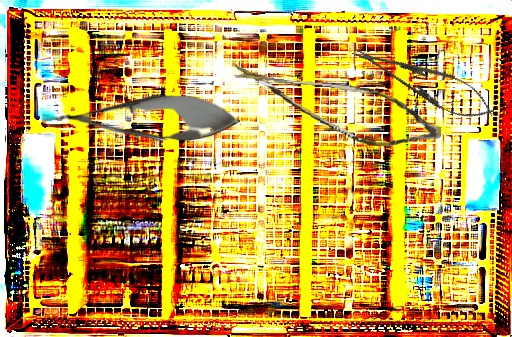Micro Scissor: (224, 63, 446, 153), (42, 94, 240, 143)
Needle Holder: (346, 33, 501, 130)
